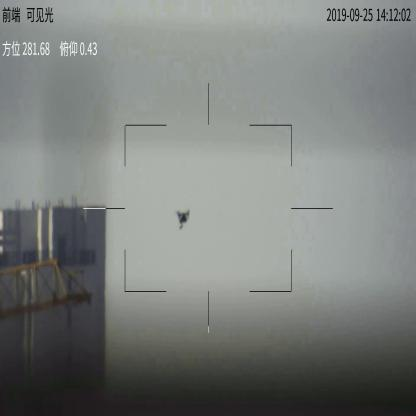uav: (174, 206, 194, 230)
